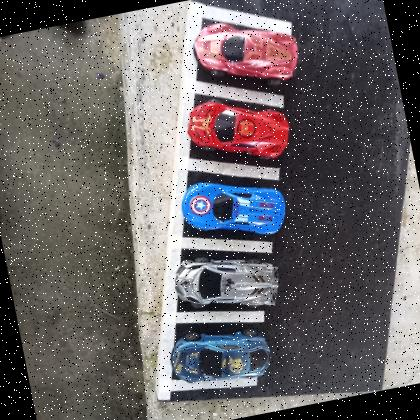Car: (182, 86, 294, 174), (191, 10, 304, 94), (169, 243, 284, 324), (179, 168, 291, 250), (166, 320, 276, 394)
